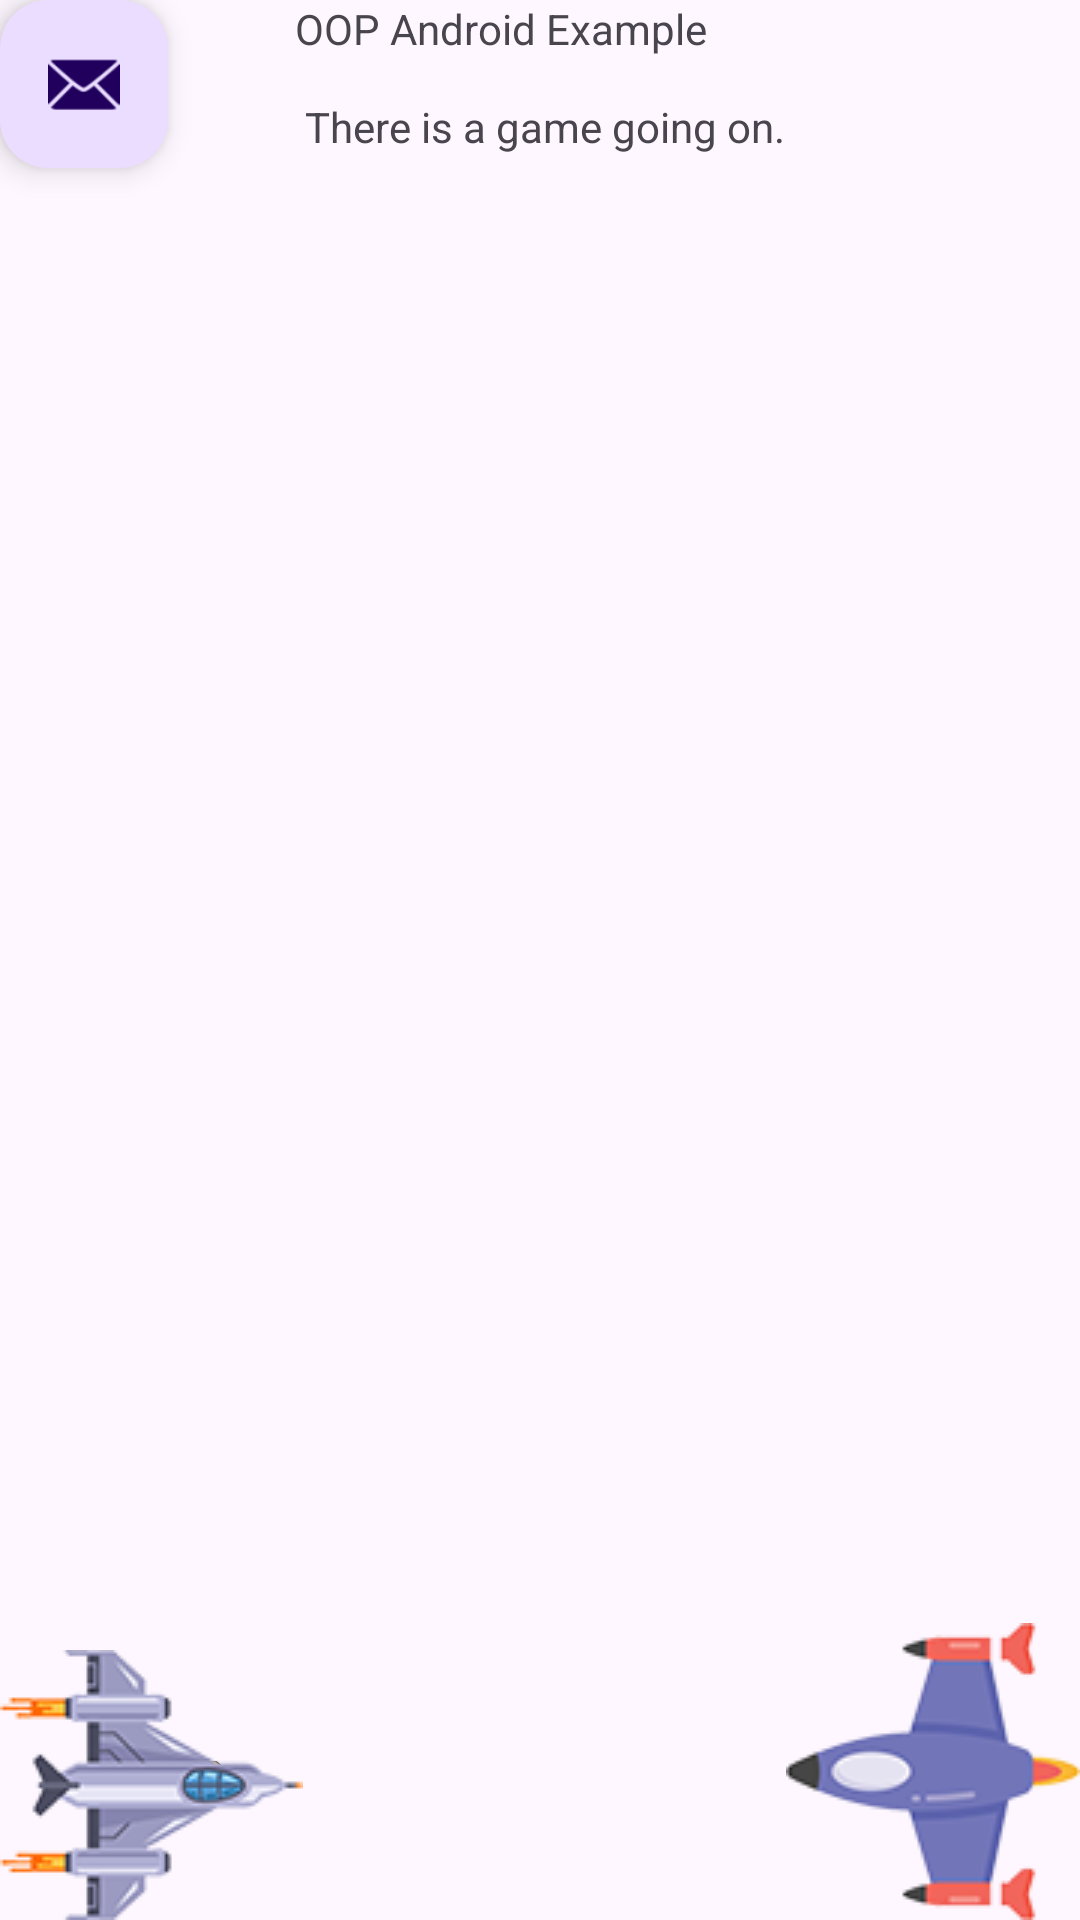

Icons on this 1080 x 1920 Android screen, each with the point to tap as (x=x, y=y):
email: (x=84, y=84)
